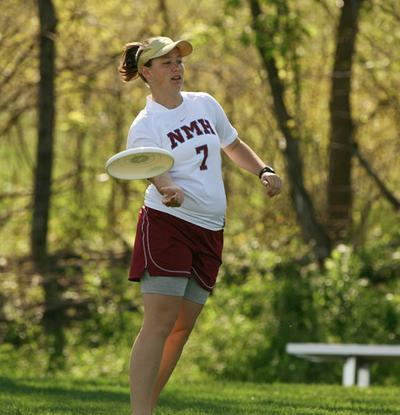person: (120, 37, 283, 412)
